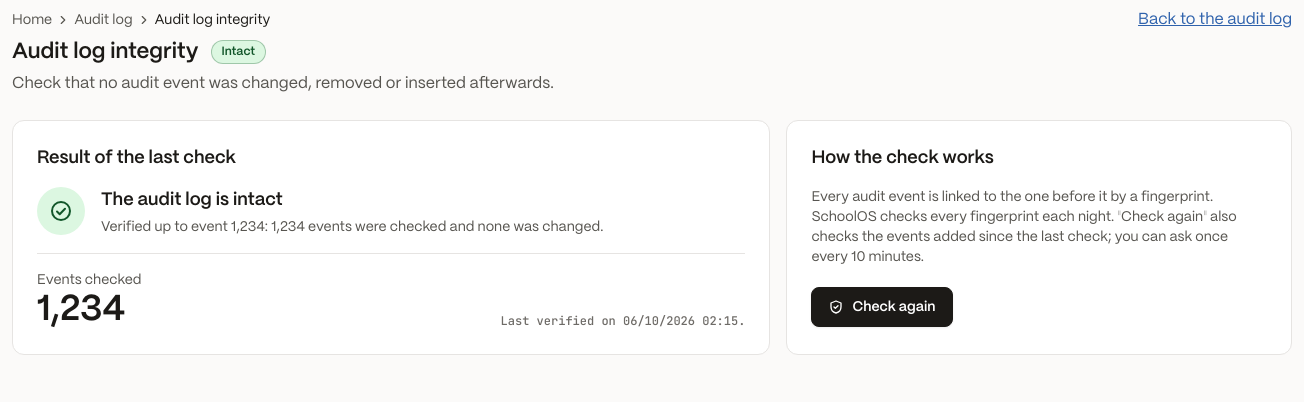
audit chain check (US-1001 AC2, FR-AUD-003, FR-AUD-005) › check again queues a check, shows it queued and the result when it is done
Click the button "Check again" at {"x": 882, "y": 307}, box [811, 287, 952, 327]
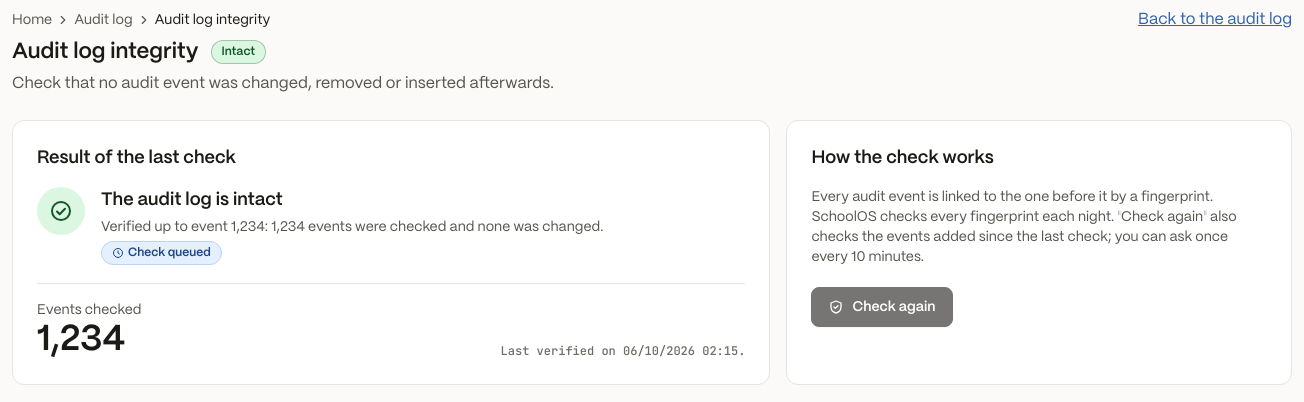
Expected: the text "Check queued" is shown, [101, 241, 222, 265]
Expected: the button "Check again" is disabled, [811, 287, 952, 327]
